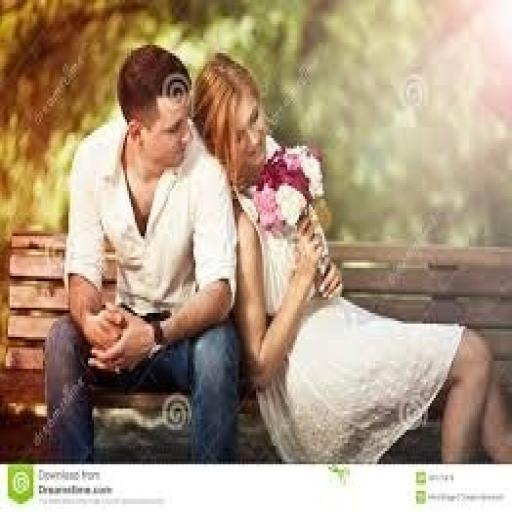sitting: (188, 50, 510, 464), (37, 40, 240, 462)
